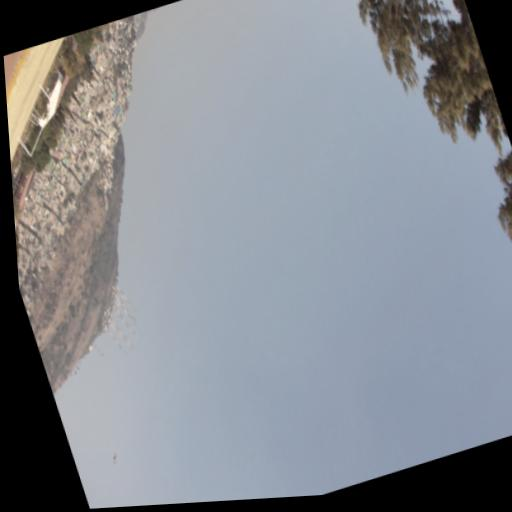drones: (109, 450, 121, 467)
